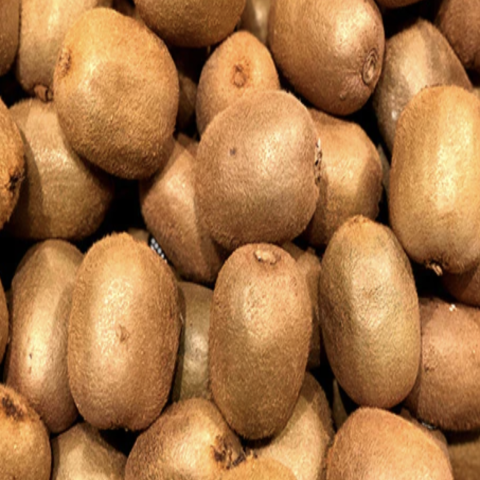kiwi: (191, 83, 350, 257), (303, 207, 441, 402), (43, 3, 185, 192), (64, 227, 187, 445), (205, 234, 317, 451), (378, 76, 480, 266)
